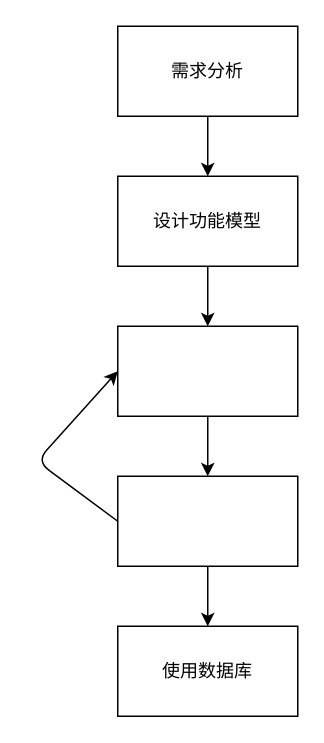
Some shapes in this 324 by 743 pixel diagram are drawn without their labels. Each missing label, with the centre of its shape:
运行、测试: the point at 207,520
逻辑及模型优化: the point at 207,370
